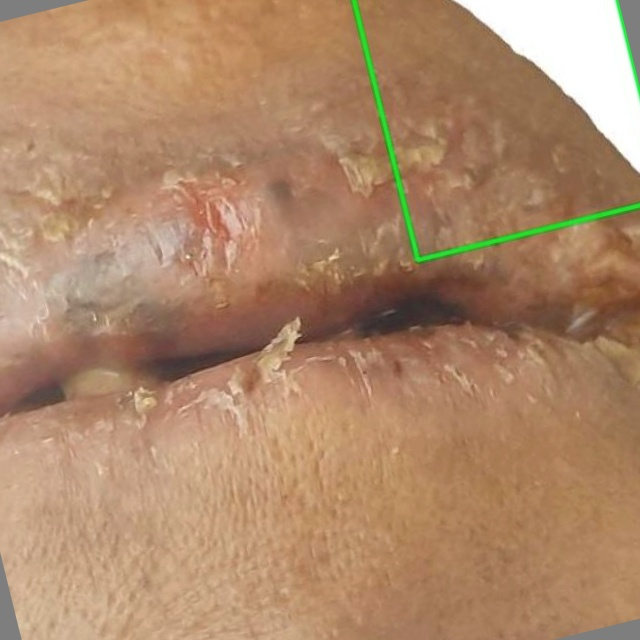Contact Dermatitis: (354, 0, 639, 260)
